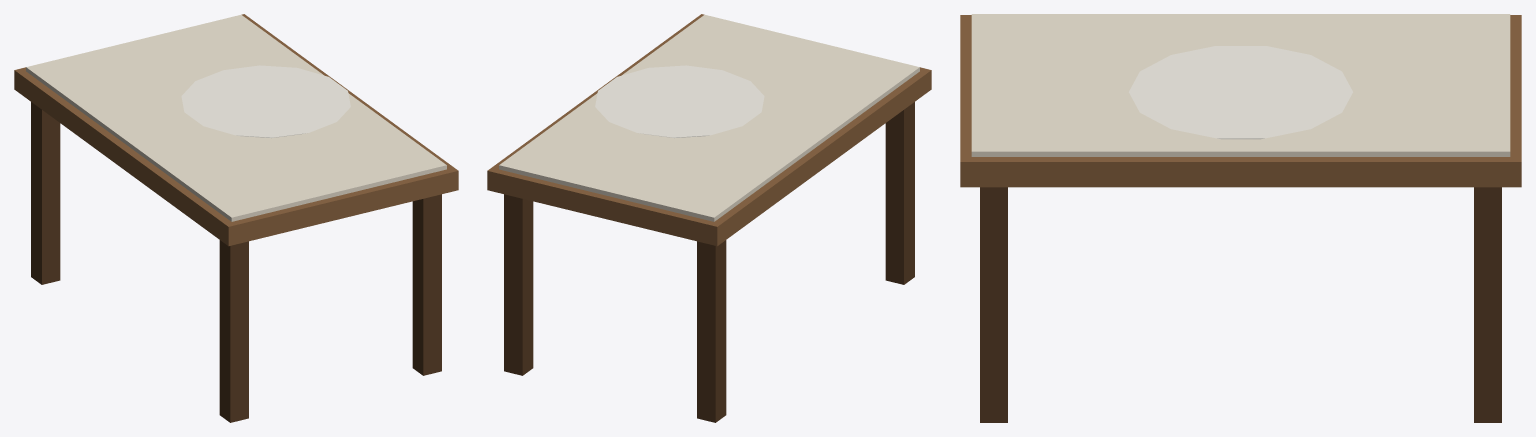
The model's file is table.glb.
3 renders of one model, left to right at view 1: azimuth 30°, elevation 25°; view 2: azimuth 150°, elevation 25°; view 3: azimuth 270°, elevation 25°, orthographic. The views are drawn at different scales.
Parts seen in each view (by area): view 1: #e8e0d0_noshadow, #5a3e26, #8a6440, #f0ede4_noshadow; view 2: #e8e0d0_noshadow, #5a3e26, #8a6440, #f0ede4_noshadow; view 3: #e8e0d0_noshadow, #8a6440, #f0ede4_noshadow, #5a3e26.
Boxes of the visible parts, x1,y1,x2,y2 form: #e8e0d0_noshadow: [26, 15, 446, 221]; #5a3e26: [31, 102, 441, 422]; #8a6440: [14, 14, 458, 246]; #f0ede4_noshadow: [181, 65, 350, 138]; #e8e0d0_noshadow: [499, 15, 919, 221]; #5a3e26: [504, 102, 914, 422]; #8a6440: [487, 14, 931, 246]; #f0ede4_noshadow: [595, 65, 764, 138]; #e8e0d0_noshadow: [971, 14, 1510, 156]; #8a6440: [960, 15, 1521, 187]; #f0ede4_noshadow: [1129, 46, 1352, 139]; #5a3e26: [980, 187, 1501, 422].
Size of the model in its own units: 0.62 by 0.555 by 1.
